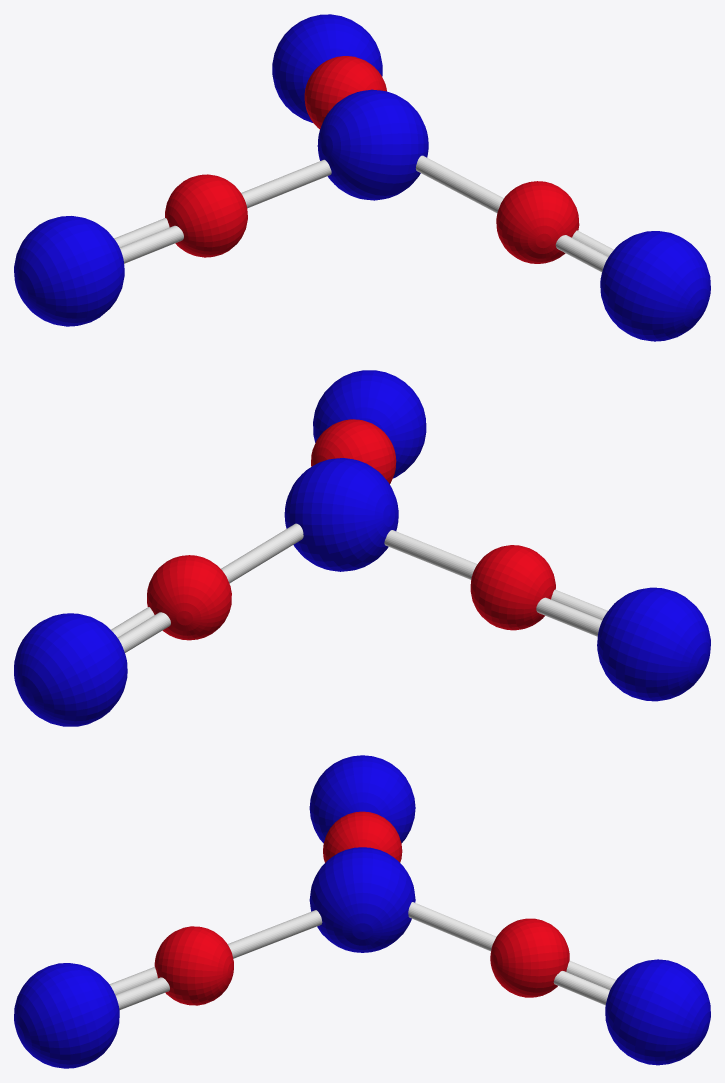
3 views of the same model, one above another, from view 1: azimuth 30°, elevation 25°; view 2: azimuth 150°, elevation 25°; view 3: azimuth 270°, elevation 25° (orthographic). The views are drawn at different scales.
Parts seen in each view (by area): view 1: Sphere.004, Sphere.002, Sphere.003, Sphere.006, Sphere, Sphere.005, Sphere.001, Cylinder.002, Cylinder.001, Cylinder.003, Cylinder.006, Cylinder.004; view 2: Sphere.004, Sphere.006, Sphere.003, Sphere.002, Sphere, Sphere.001, Sphere.005, Cylinder.001, Cylinder.007, Cylinder.004, Cylinder.008, Cylinder.003; view 3: Sphere.006, Sphere.002, Sphere.003, Sphere.004, Sphere.001, Sphere.005, Sphere, Cylinder.002, Cylinder.007, Cylinder.009, Cylinder.005, Cylinder.008 (+1 smaller).
Boxes of the visible parts, x1,y1,x2,y2 form: Sphere.004: (14,216,124,326); Sphere.002: (600,231,710,341); Sphere.003: (317,89,428,200); Sphere.006: (272,14,382,123); Sphere: (165,174,247,257); Sphere.005: (496,181,579,263); Sphere.001: (304,56,386,129); Cylinder.002: (415,155,503,212); Cylinder.001: (241,159,331,208); Cylinder.003: (120,225,183,263); Cylinder.006: (555,235,608,272); Cylinder.004: (114,218,169,247); Sphere.004: (597,587,710,701); Sphere.006: (14,613,127,726); Sphere.003: (284,458,398,571); Sphere.002: (313,370,426,478); Sphere: (470,545,555,630); Sphere.001: (147,555,231,640); Sphere.005: (311,419,396,484); Cylinder.001: (384,530,477,579); Cylinder.007: (221,523,303,583); Cylinder.004: (536,597,602,636); Cylinder.008: (118,612,170,652); Cylinder.003: (551,589,607,620); Sphere.006: (605,959,710,1065); Sphere.002: (14,963,119,1068); Sphere.003: (309,847,415,952); Sphere.004: (309,755,415,843); Sphere.001: (490,918,569,997); Sphere.005: (154,926,233,1005); Sphere: (323,811,402,862); Cylinder.002: (227,910,322,958); Cylinder.007: (408,902,496,951); Cylinder.009: (553,971,609,1005); Cylinder.005: (115,977,169,1010); Cylinder.008: (566,960,615,989).
Bounding box in the file's own units: 10.98 × 3.28 × 13.15.
